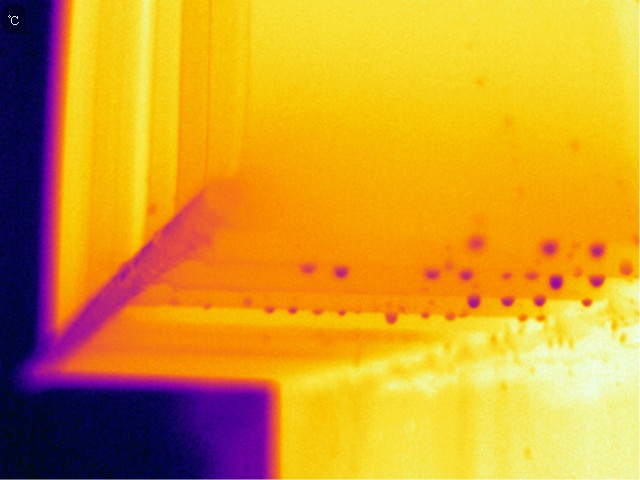Water: (612, 255, 638, 289), (535, 238, 562, 256), (470, 233, 490, 255), (296, 260, 323, 275), (527, 293, 551, 309), (379, 307, 400, 325), (586, 273, 608, 290), (330, 264, 356, 278), (547, 272, 566, 291), (586, 242, 608, 258), (576, 296, 598, 311), (422, 268, 449, 280), (465, 293, 484, 309), (496, 295, 519, 308), (458, 266, 475, 283), (444, 309, 461, 326), (524, 267, 539, 286), (261, 299, 275, 318), (498, 268, 513, 283), (416, 309, 432, 323), (312, 305, 326, 319), (286, 307, 299, 314)
